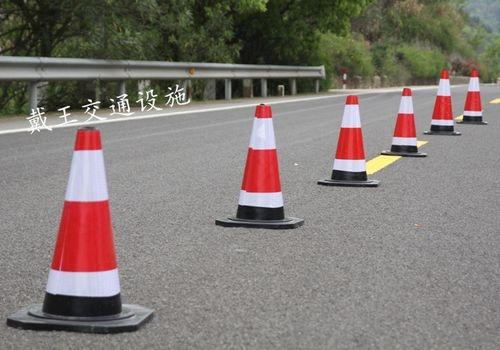cone_barrel: (34, 126, 133, 322), (228, 100, 292, 227), (324, 94, 373, 183), (384, 86, 421, 156), (425, 66, 456, 135), (459, 66, 485, 123)
